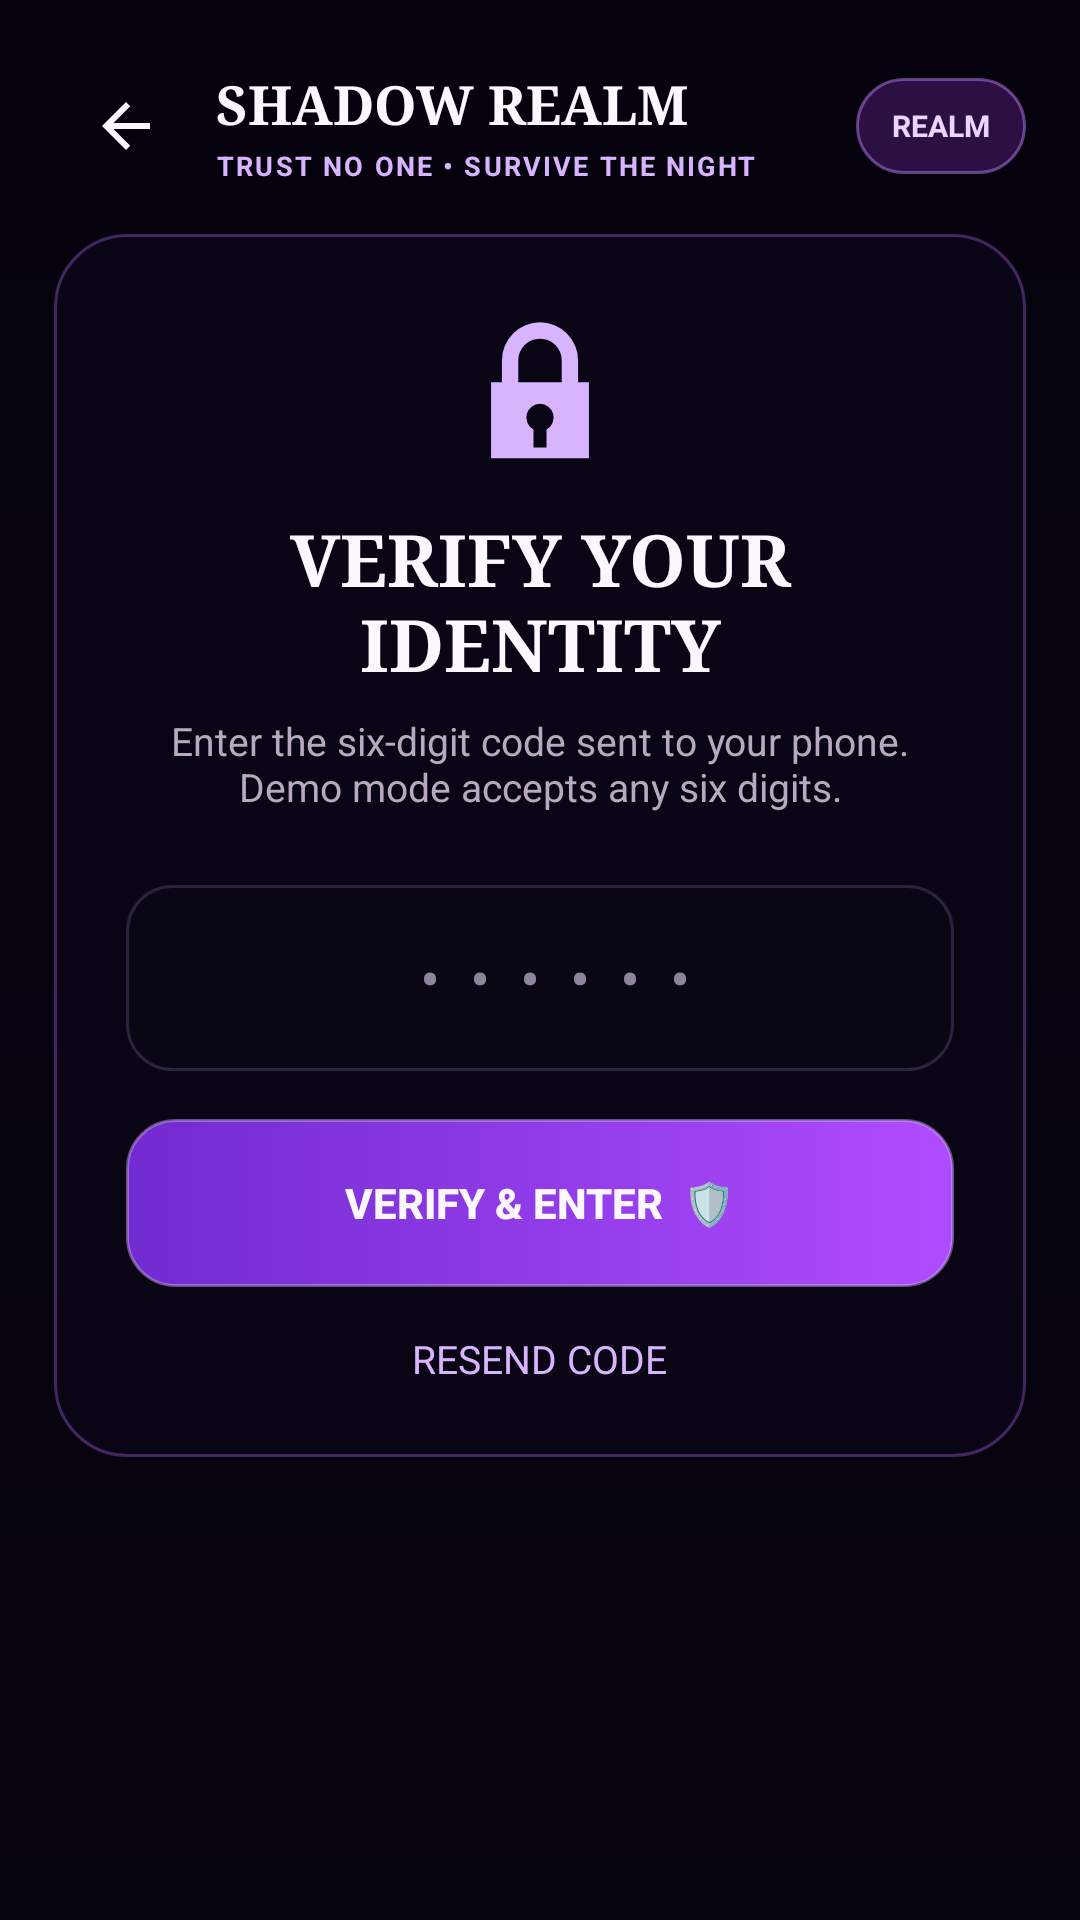

Point at icon controls on the screen. Image size 1080 x 1920, points as (x,y).
Back: (126,126)
Secure verification: (540,390)
